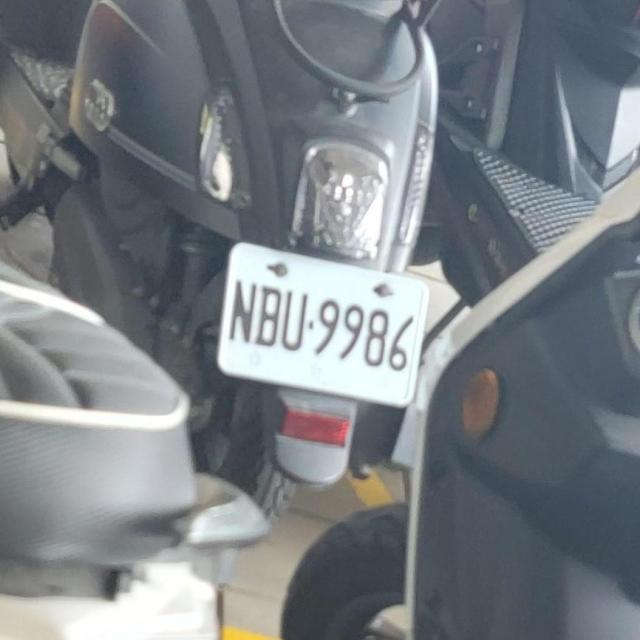W: (205, 234, 436, 415)
